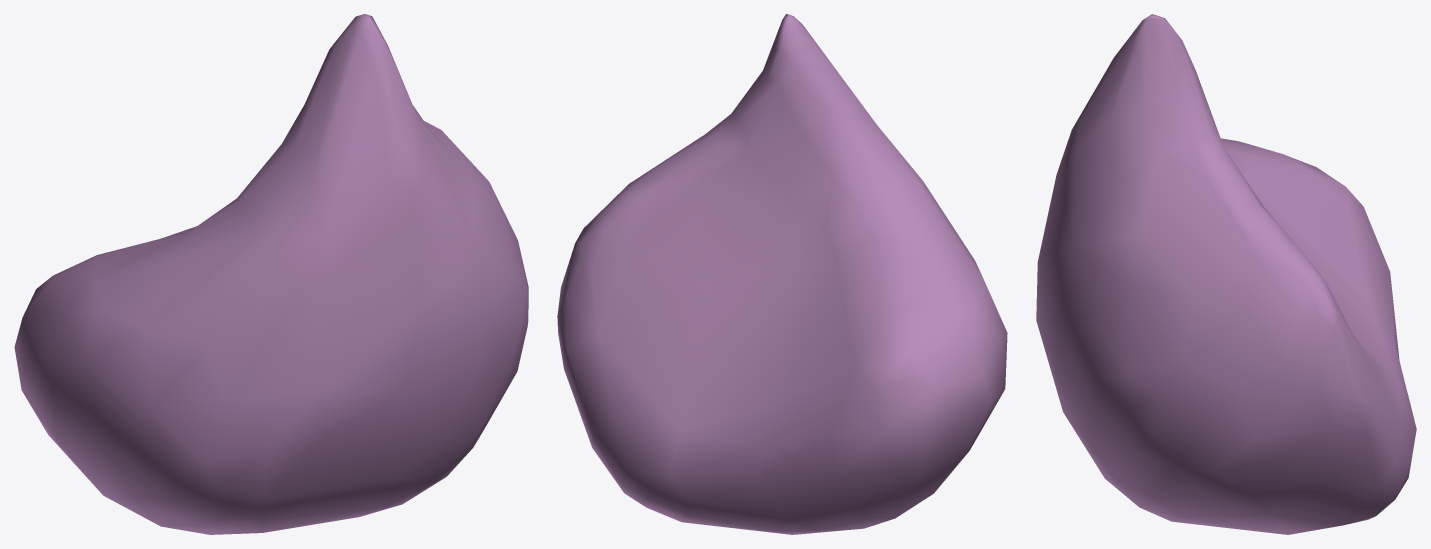
3 views of the same model, side by side, from view 1: azimuth 30°, elevation 25°; view 2: azimuth 150°, elevation 25°; view 3: azimuth 270°, elevation 25° (orthographic). The views are drawn at different scales.
Parts seen in each view (by area): view 1: 左侧杏仁体; view 2: 左侧杏仁体; view 3: 左侧杏仁体.
Part boxes in pixels (x1,y1,x2,y2): 左侧杏仁体: [14, 14, 528, 534]; 左侧杏仁体: [557, 14, 1007, 534]; 左侧杏仁体: [1036, 14, 1416, 534].
Bounding box in the file's own units: 0.0244 × 0.0263 × 0.0183.
